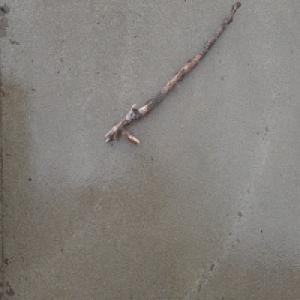Wood: (103, 0, 241, 147)
